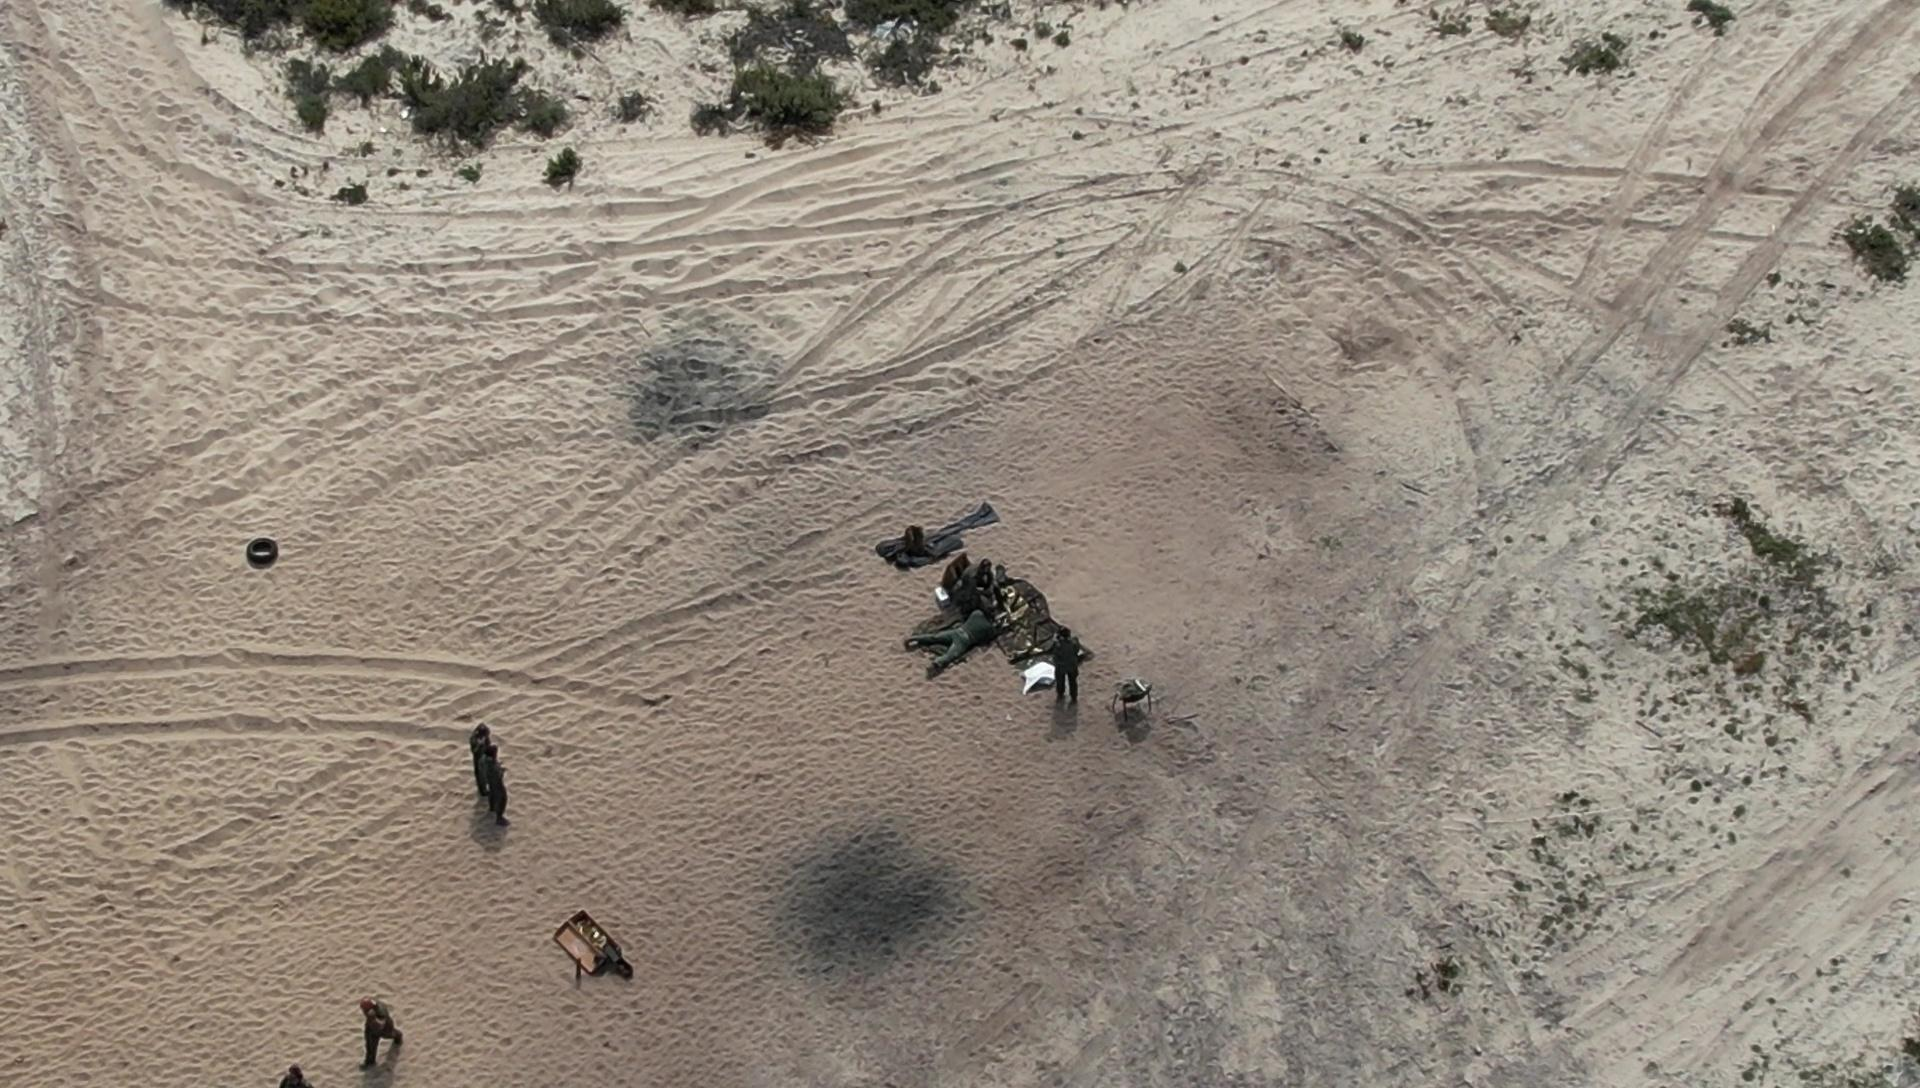Soldier: (916, 589, 1011, 674), (356, 971, 407, 1085), (1046, 619, 1087, 719), (945, 564, 1005, 621), (469, 750, 512, 827)
